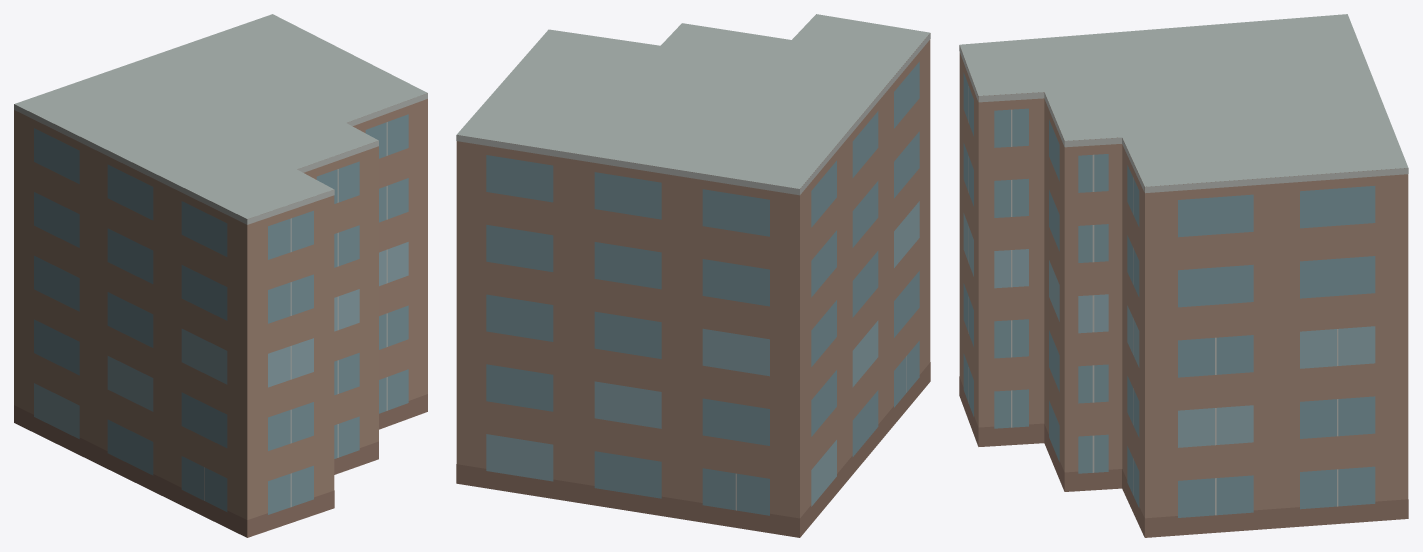
Rendered from survey-upis-32994004.glb.
The picture shows the model from 3 angles, left to right: view 1: azimuth 30°, elevation 25°; view 2: azimuth 150°, elevation 25°; view 3: azimuth 270°, elevation 25°; orthographic projection. The views are drawn at different scales.
Parts seen in each view (by area): view 1: survey-upis-32994004.tmp; view 2: survey-upis-32994004.tmp; view 3: survey-upis-32994004.tmp.
Part boxes in pixels (<box>): survey-upis-32994004.tmp: <box>14,14,427,537</box>; survey-upis-32994004.tmp: <box>456,14,930,537</box>; survey-upis-32994004.tmp: <box>959,14,1408,537</box>.
Size of the model in its own units: 14.27 by 13.5 by 15.66.
